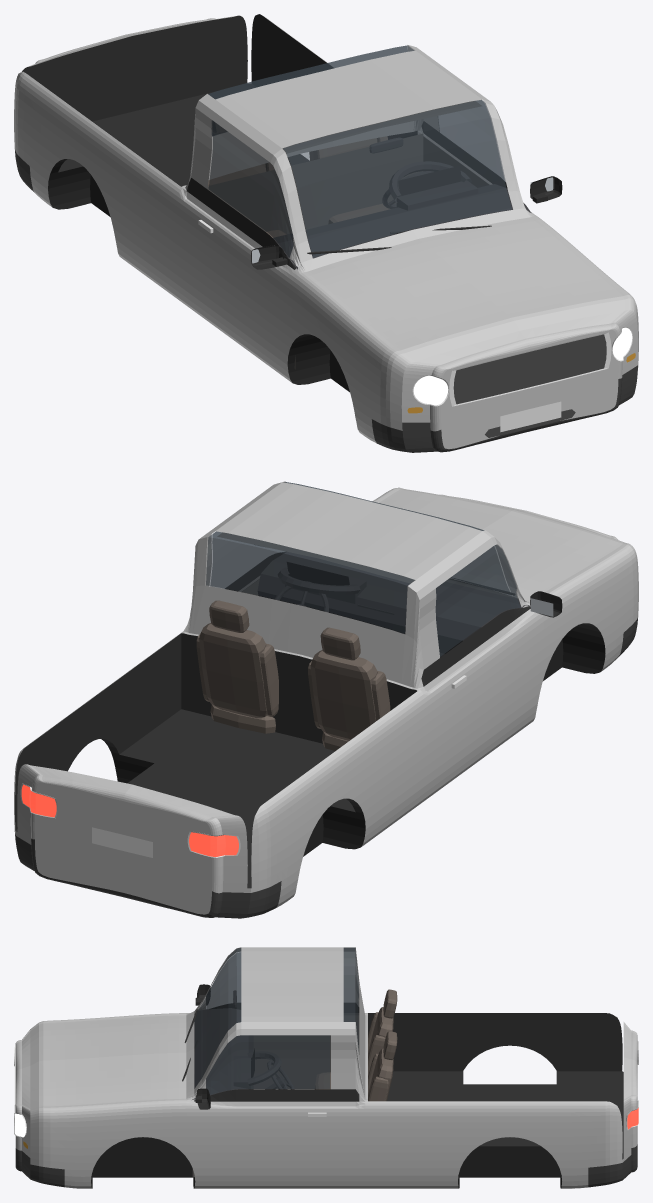
File: car_dusty.fbx
The picture shows the model from 3 angles, top to bottom: view 1: azimuth 30°, elevation 25°; view 2: azimuth 150°, elevation 25°; view 3: azimuth 270°, elevation 25°; orthographic projection. The views are drawn at different scales.
Visible parts, largest first — view 1: dusty__hood, dusty__glass, dusty__bed, dusty__quarterR, dusty__roof, dusty__cabin, dusty__doorR, dusty__fenderFR, dusty__interior, dusty__fascia, dusty__grille, dusty__pillars (+12 smaller); view 2: dusty__bed, dusty__quarterR, dusty__glass, dusty__rearPanel, dusty__seats, dusty__roof, dusty__doorR, dusty__hood, dusty__interior, dusty__trunk, dusty__fenderFR, dusty__wells (+9 smaller); view 3: dusty__quarterL, dusty__bed, dusty__hood, dusty__doorL, dusty__glass, dusty__fenderFL, dusty__roof, dusty__wells, dusty__interior, dusty__pillars, dusty__cabin, dusty__seats (+7 smaller).
Boxes of the visible parts, x1=… form: dusty__hood: x1=300, y1=216, x2=630, y2=373; dusty__glass: x1=208, y1=45, x2=511, y2=257; dusty__bed: x1=22, y1=14, x2=417, y2=186; dusty__quarterR: x1=14, y1=71, x2=191, y2=307; dusty__roof: x1=207, y1=50, x2=490, y2=154; dusty__cabin: x1=207, y1=101, x2=489, y2=369; dusty__doorR: x1=183, y1=195, x2=289, y2=378; dusty__fenderFR: x1=281, y1=266, x2=435, y2=443; dusty__interior: x1=273, y1=137, x2=531, y2=269; dusty__fascia: x1=430, y1=324, x2=622, y2=449; dusty__grille: x1=453, y1=334, x2=606, y2=437; dusty__pillars: x1=189, y1=45, x2=527, y2=266; dusty__bed: x1=15, y1=633, x2=416, y2=888; dusty__quarterR: x1=217, y1=684, x2=436, y2=907; dusty__glass: x1=206, y1=482, x2=520, y2=656; dusty__rearPanel: x1=30, y1=777, x2=223, y2=914; dusty__seats: x1=196, y1=600, x2=390, y2=750; dusty__roof: x1=207, y1=482, x2=490, y2=586; dusty__doorR: x1=428, y1=612, x2=534, y2=795; dusty__hood: x1=372, y1=487, x2=630, y2=601; dusty__interior: x1=257, y1=552, x2=529, y2=657; dusty__trunk: x1=183, y1=578, x2=530, y2=689; dusty__fenderFR: x1=526, y1=545, x2=638, y2=723; dusty__wells: x1=101, y1=623, x2=605, y2=856; dusty__quarterL: x1=352, y1=1098, x2=631, y2=1188; dusty__bed: x1=368, y1=1013, x2=623, y2=1159; dusty__hood: x1=15, y1=1013, x2=186, y2=1111; dusty__doorL: x1=202, y1=1101, x2=351, y2=1188; dusty__glass: x1=194, y1=947, x2=358, y2=1094; dusty__fenderFL: x1=22, y1=1101, x2=201, y2=1188; dusty__roof: x1=241, y1=947, x2=343, y2=1028; dusty__wells: x1=91, y1=1137, x2=561, y2=1188; dusty__interior: x1=192, y1=990, x2=285, y2=1099; dusty__pillars: x1=194, y1=947, x2=359, y2=1099; dusty__cabin: x1=192, y1=1013, x2=359, y2=1177; dusty__seats: x1=314, y1=989, x2=397, y2=1101.
Bounding box in the file's own units: 2.18 × 1.45 × 5.03.
